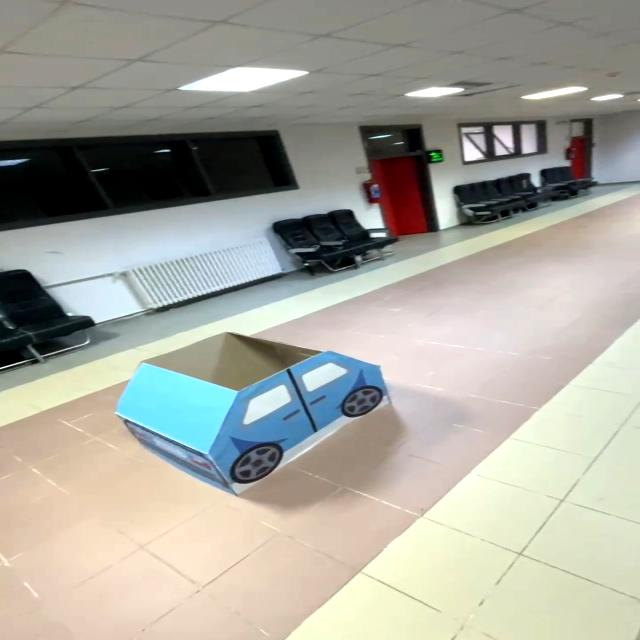blue_car: (89, 318, 429, 511)
